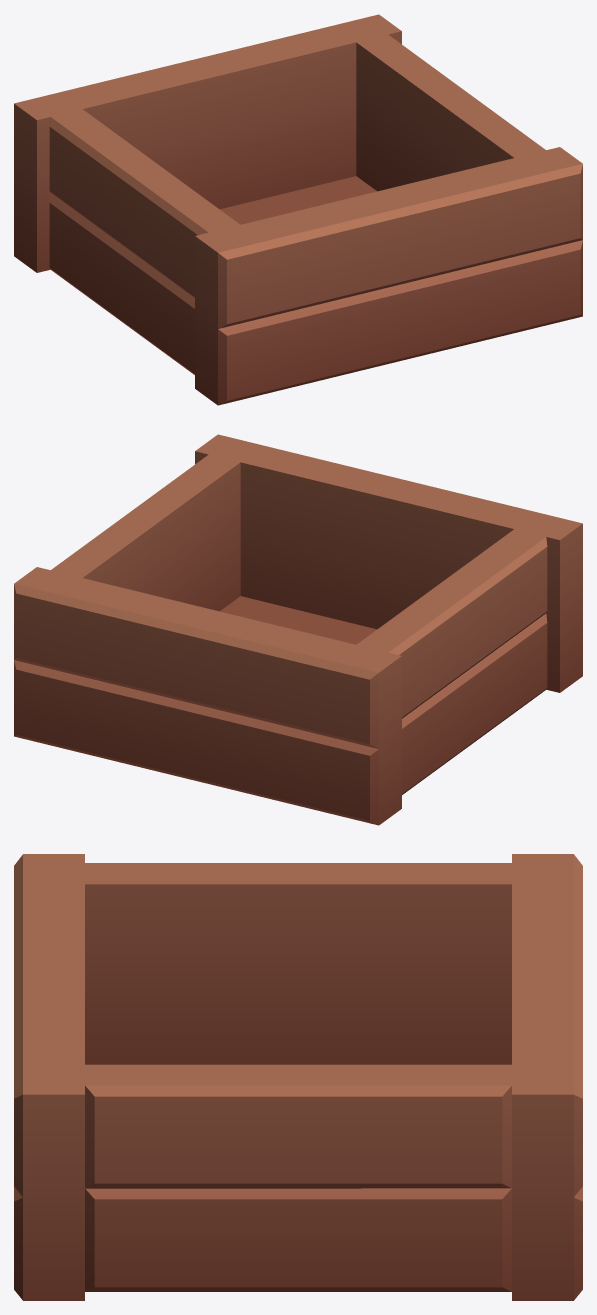
The model's file is crate-open.glb.
3 views of the same model, one above another, from view 1: azimuth 30°, elevation 25°; view 2: azimuth 150°, elevation 25°; view 3: azimuth 270°, elevation 25° (orthographic). The views are drawn at different scales.
Parts seen in each view (by area): view 1: crate; view 2: crate; view 3: crate.
Boxes of the visible parts, x1,y1,x2,y2 form: crate: (14,14,582,405); crate: (14,434,582,825); crate: (14,854,582,1300).
Size of the model in its own units: 2 by 0.8 by 2.
Materials: 1 (1 with a texture image).
